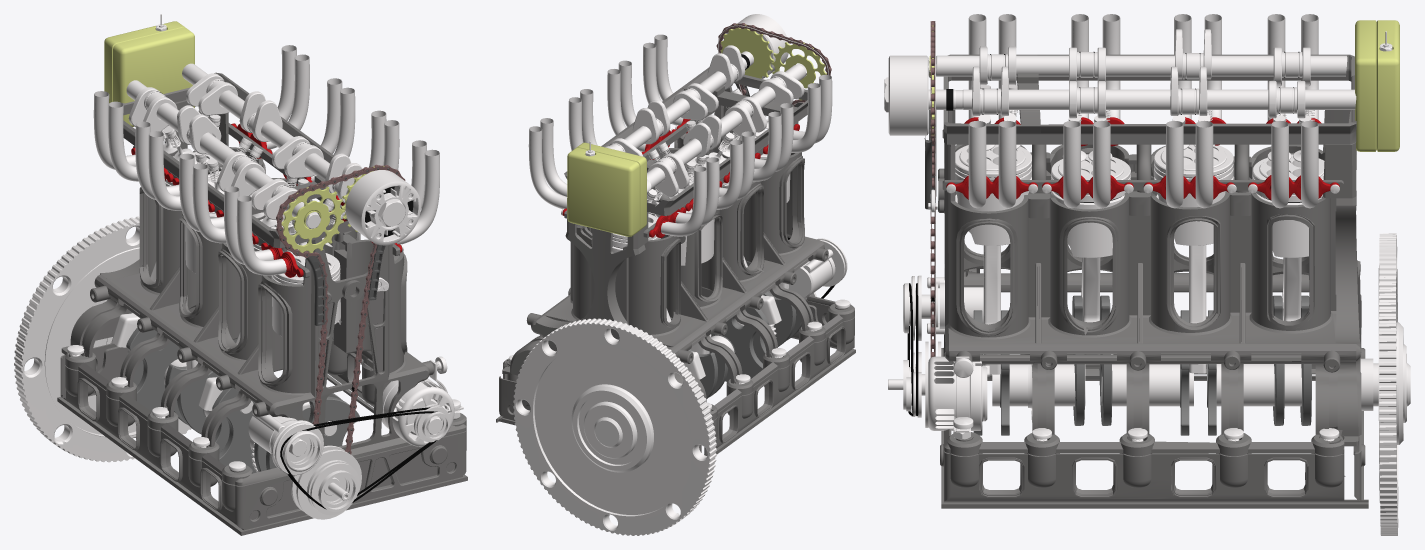
File: engine-cinematic.glb
3 views of the same model, side by side, from view 1: azimuth 30°, elevation 25°; view 2: azimuth 150°, elevation 25°; view 3: azimuth 270°, elevation 25° (orthographic). The views are drawn at different scales.
Parts seen in each view (by area): view 1: Frame.001_89, Frame.000_85, Schijf_153, Cube.013_67, Cylinder.003_70, Schakel1_151, Cube_55, Tandwiel.002_156, Cylinder.007_77, Circle.013_42, Circle.021_53, Cube.006_60 (+42 smaller); view 2: Schijf_153, Frame.001_89, Frame.000_85, Cube.013_67, Cube_55, Cube.006_60, Circle.007_36, Tandwiel.001_155, NurbsPath.036_142, NurbsPath.028_134, Cube.004_58, Cylinder.009_78 (+31 smaller); view 3: Frame.001_89, Frame.000_85, Cube_55, Circle.003_32, Schijf_153, Cube.013_67, Cube.004_58, Cube.006_60, Cylinder.003_70, Cylinder.007_77, Cylinder.002_69, Circle_29 (+44 smaller).
Part boxes in pixels (x1=…): Frame.001_89: x1=61, y1=100, x2=434, y2=449; Frame.000_85: x1=57, y1=340, x2=467, y2=535; Schijf_153: x1=14, y1=216, x2=191, y2=462; Cube.013_67: x1=104, y1=21, x2=194, y2=126; Cylinder.003_70: x1=345, y1=170, x2=420, y2=245; Schakel1_151: x1=276, y1=164, x2=405, y2=454; Cube_55: x1=122, y1=72, x2=354, y2=248; Tandwiel.002_156: x1=281, y1=185, x2=344, y2=252; Cylinder.007_77: x1=381, y1=378, x2=454, y2=446; Circle.013_42: x1=126, y1=327, x2=179, y2=411; Circle.021_53: x1=271, y1=420, x2=323, y2=475; Cube.006_60: x1=126, y1=80, x2=317, y2=216; Schijf_153: x1=513, y1=318, x2=716, y2=535; Frame.001_89: x1=502, y1=86, x2=828, y2=402; Frame.000_85: x1=496, y1=287, x2=855, y2=455; Cube.013_67: x1=567, y1=142, x2=646, y2=236; Cube_55: x1=564, y1=67, x2=807, y2=215; Cube.006_60: x1=647, y1=64, x2=805, y2=191; Circle.007_36: x1=711, y1=307, x2=768, y2=381; Tandwiel.001_155: x1=720, y1=24, x2=774, y2=78; NurbsPath.036_142: x1=661, y1=166, x2=706, y2=236; NurbsPath.028_134: x1=528, y1=126, x2=567, y2=209; Cube.004_58: x1=624, y1=51, x2=753, y2=148; Cylinder.009_78: x1=788, y1=249, x2=835, y2=298; Frame.001_89: x1=938, y1=110, x2=1361, y2=446; Frame.000_85: x1=940, y1=316, x2=1368, y2=508; Cube_55: x1=943, y1=54, x2=1356, y2=144; Circle.003_32: x1=888, y1=363, x2=1410, y2=406; Schijf_153: x1=1378, y1=233, x2=1406, y2=535; Cube.013_67: x1=1355, y1=20, x2=1399, y2=151; Cube.004_58: x1=928, y1=89, x2=1356, y2=109; Cube.006_60: x1=936, y1=55, x2=1347, y2=76; Cylinder.003_70: x1=888, y1=55, x2=928, y2=135; Cylinder.007_77: x1=928, y1=356, x2=987, y2=430; Cylinder.002_69: x1=1051, y1=154, x2=1130, y2=257; Circle_29: x1=946, y1=175, x2=1339, y2=199.
Size of the model in its own units: 8.87 by 14 by 13.18.
